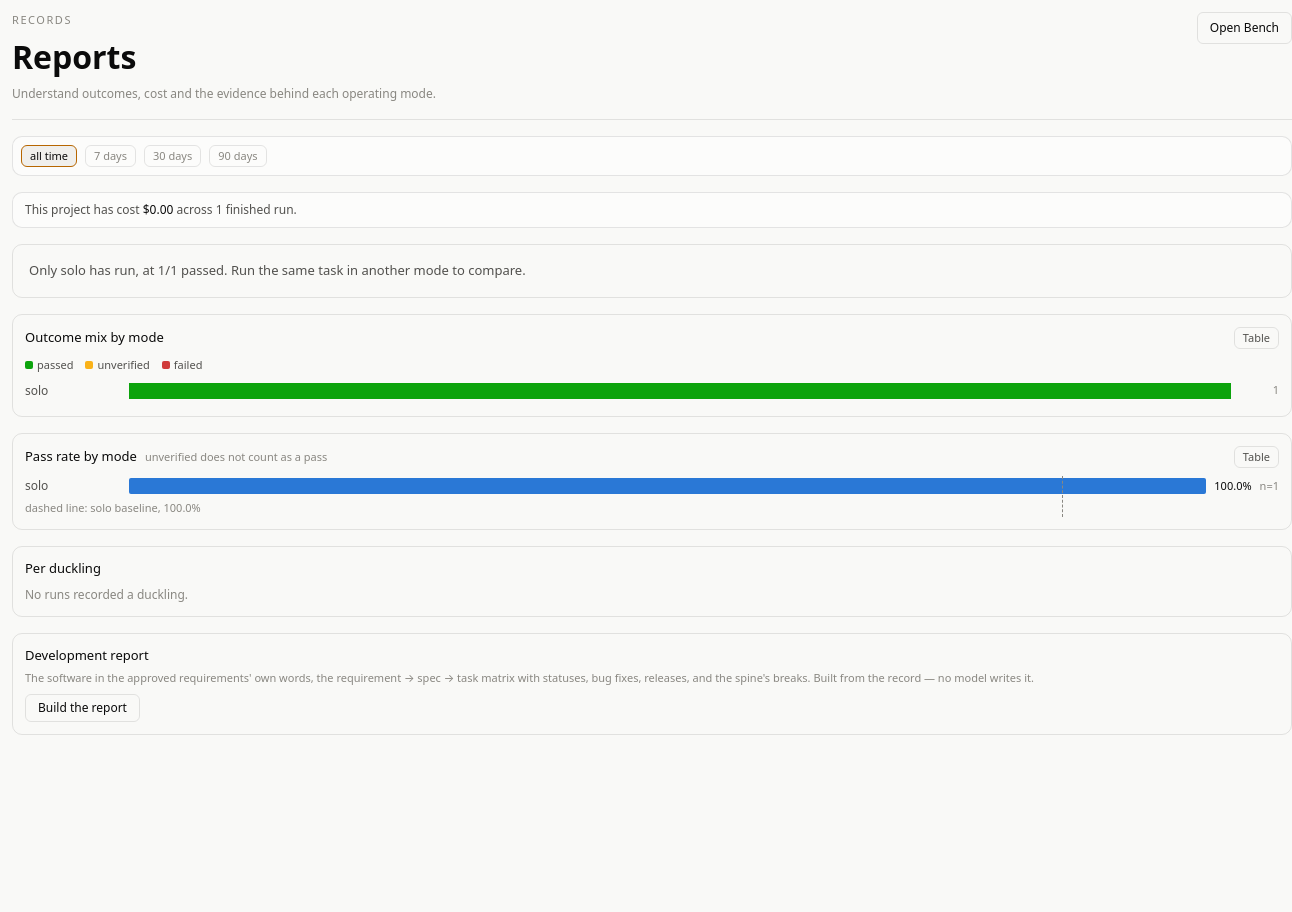
Test case: Reports › builds and shows the development report on demand
What coordinates should you click on to do the following:
click the button with test id "dev-report-generate"
I would click on:
 (82, 708)
Its box is 25,694 -> 140,722.
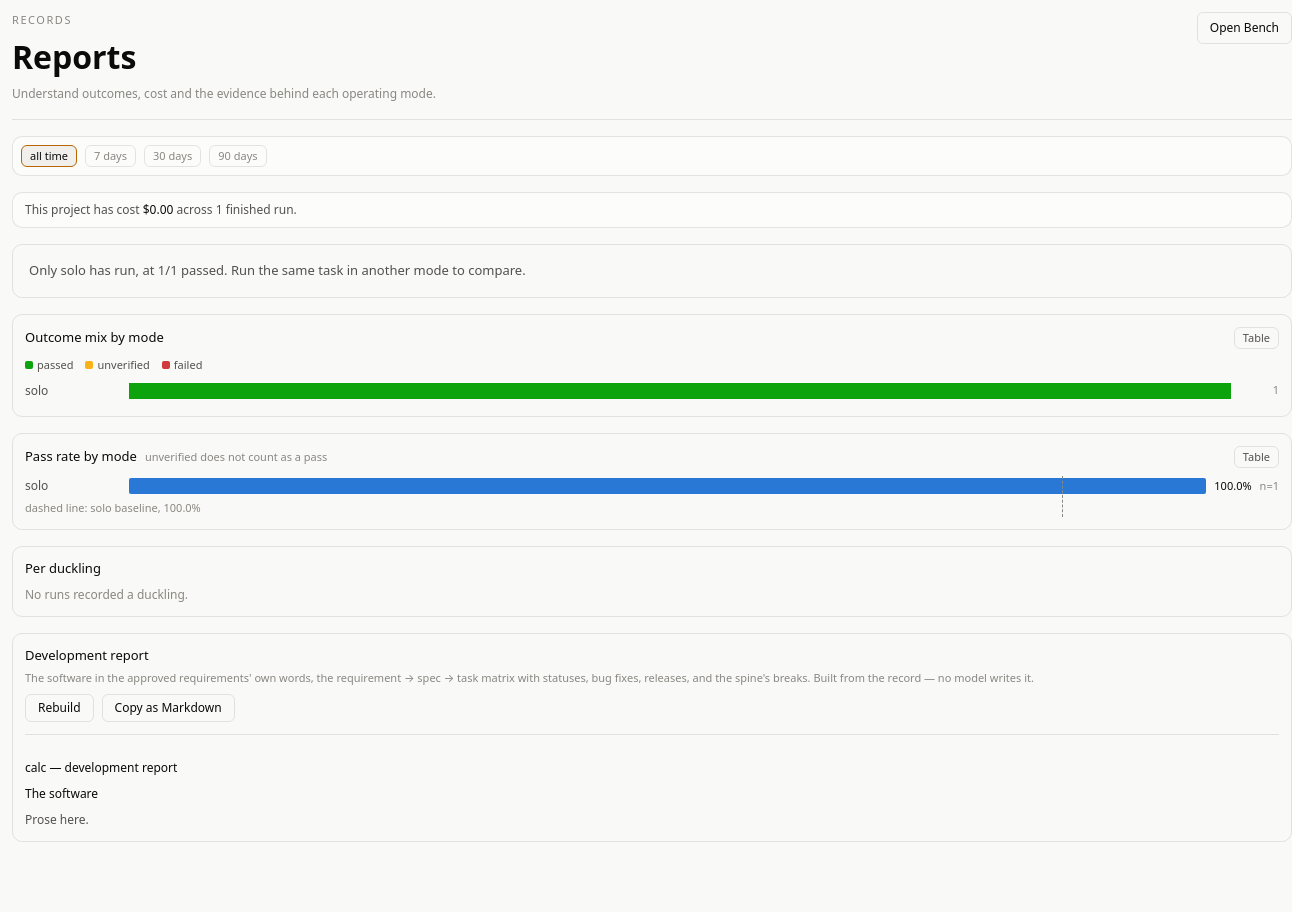
expect the element with test id "dev-report-body" is shown: met, box 25,734 -> 1279,829
expect the element with test id "dev-report-body" shows "Prose here.": met, box 25,811 -> 89,828
expect the button with test id "dev-report-copy" is shown: met, box 102,694 -> 235,722
